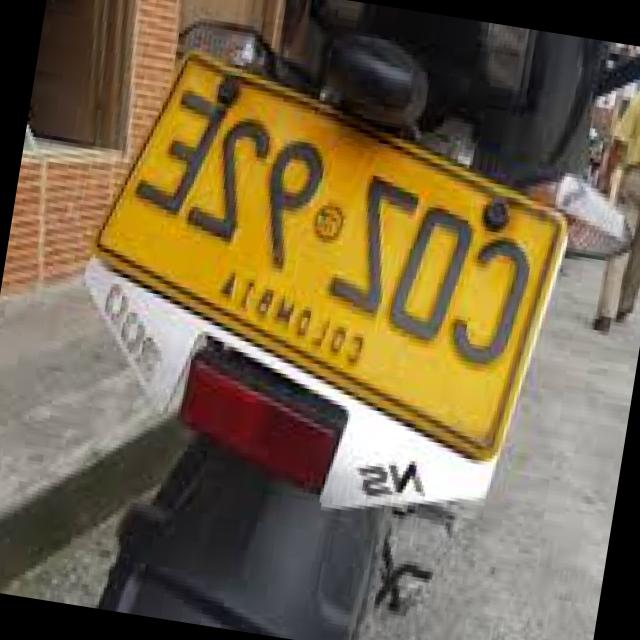number plate: (102, 51, 570, 454)
